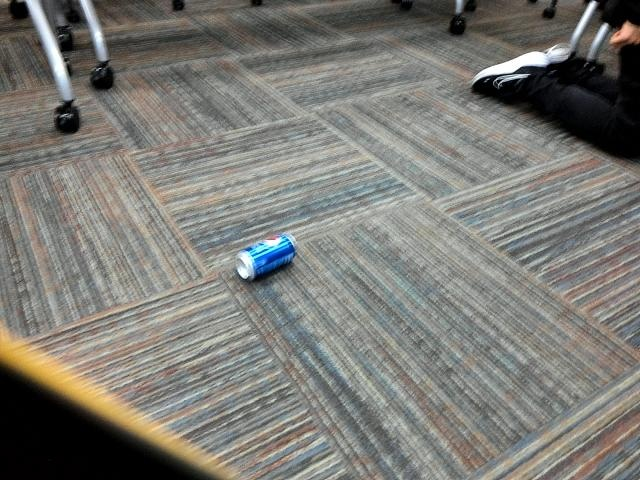can: (228, 224, 304, 283)
